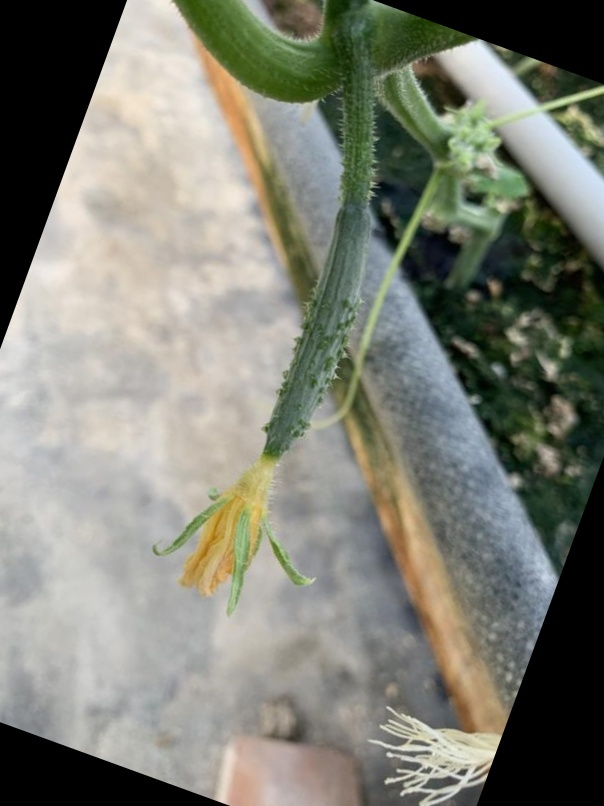bear: (143, 173, 395, 630)
